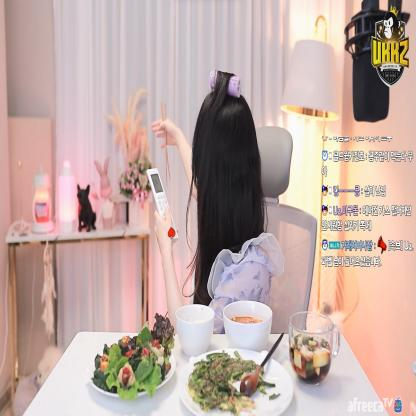streamer: (152, 70, 285, 333)
